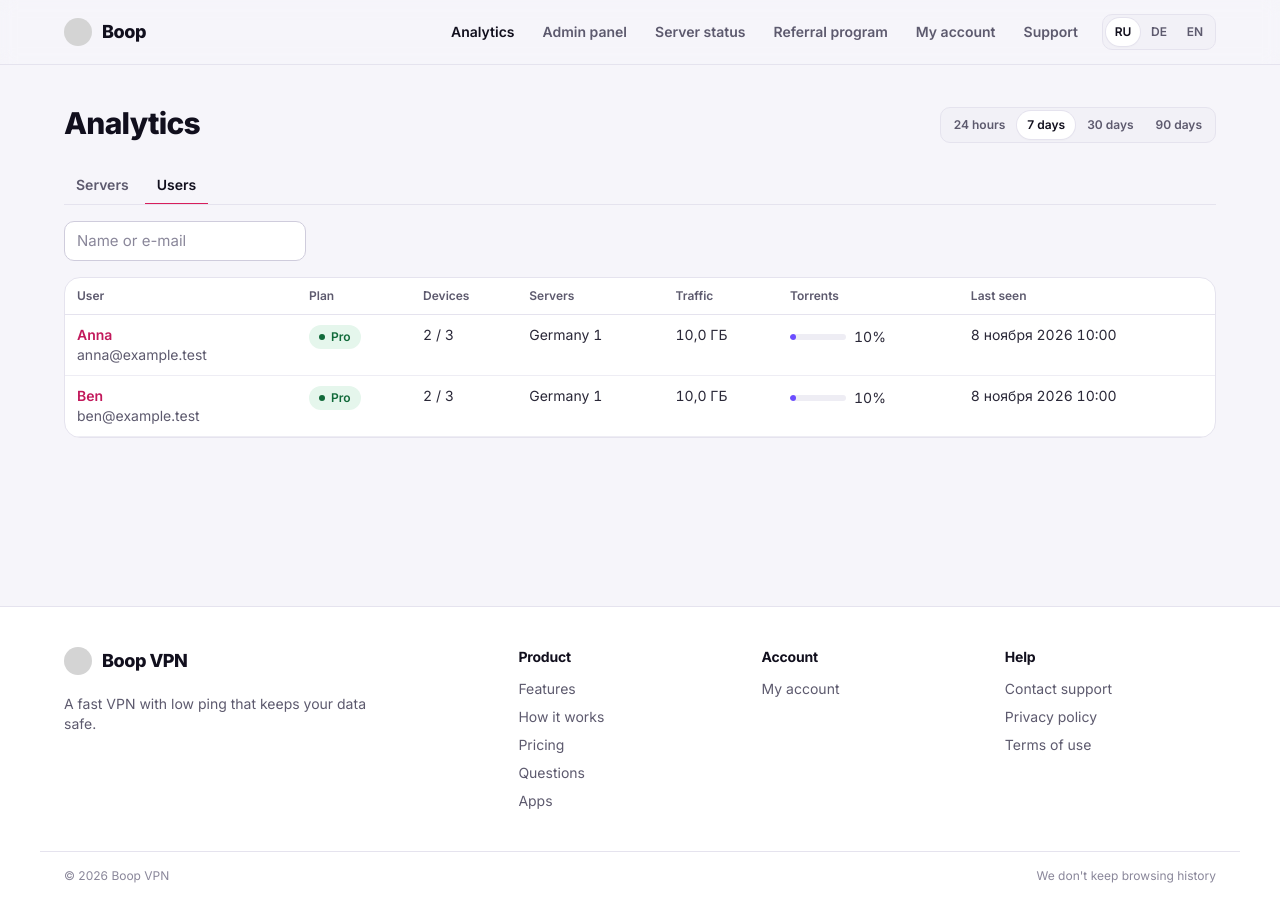
Test case: #/analytics › users: the search goes to ?q= and to the server
Expected: the number of rows is 3, 65,278 -> 1215,314; 65,314 -> 1215,375; 65,375 -> 1215,436
Type "anna" into the search field named "Search" at (185, 240), box 64,220 -> 306,260
Then press Enter
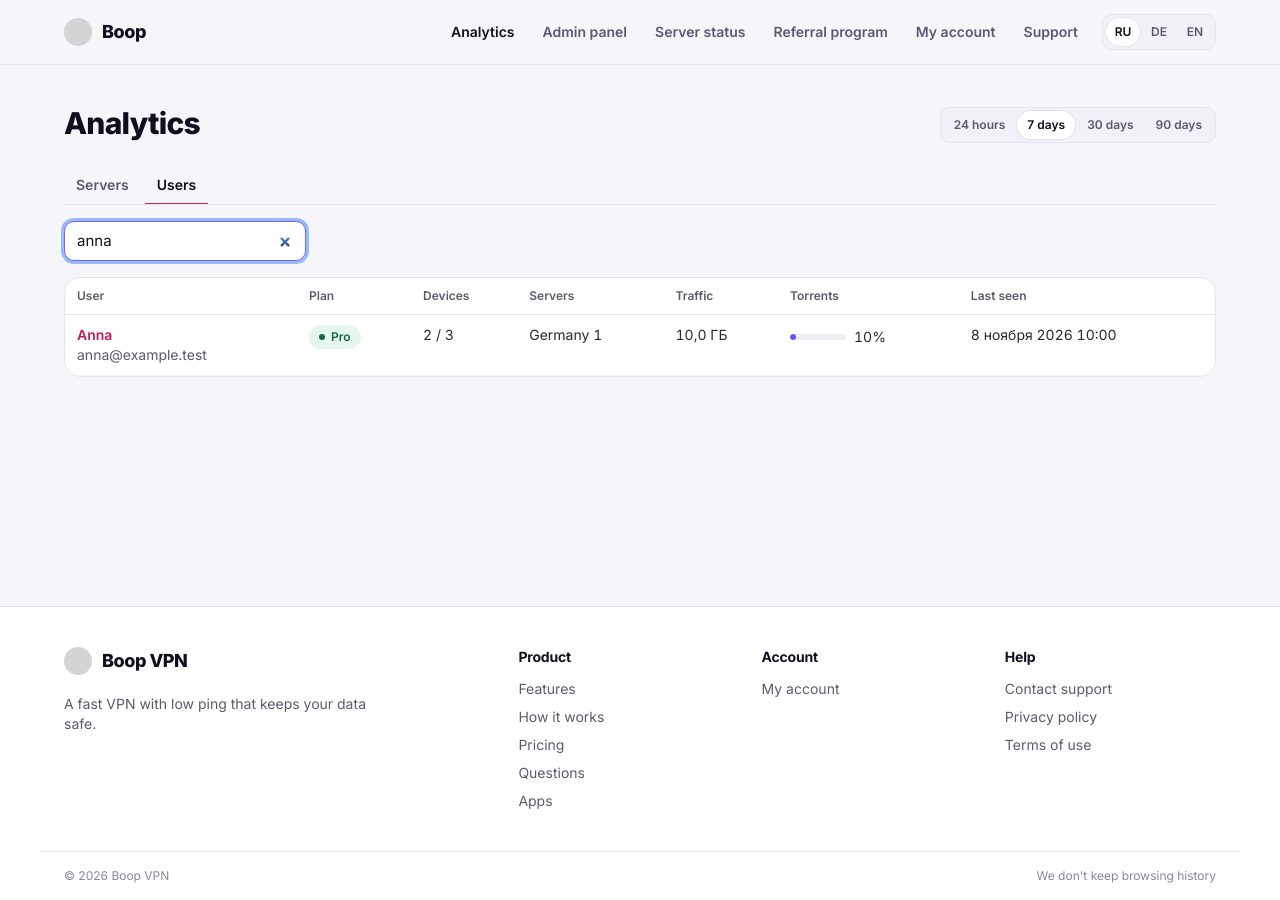
Now the number of rows is 2, box 65,278 -> 1215,314; 65,314 -> 1215,375
